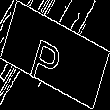P_N: (36, 24, 74, 86)
